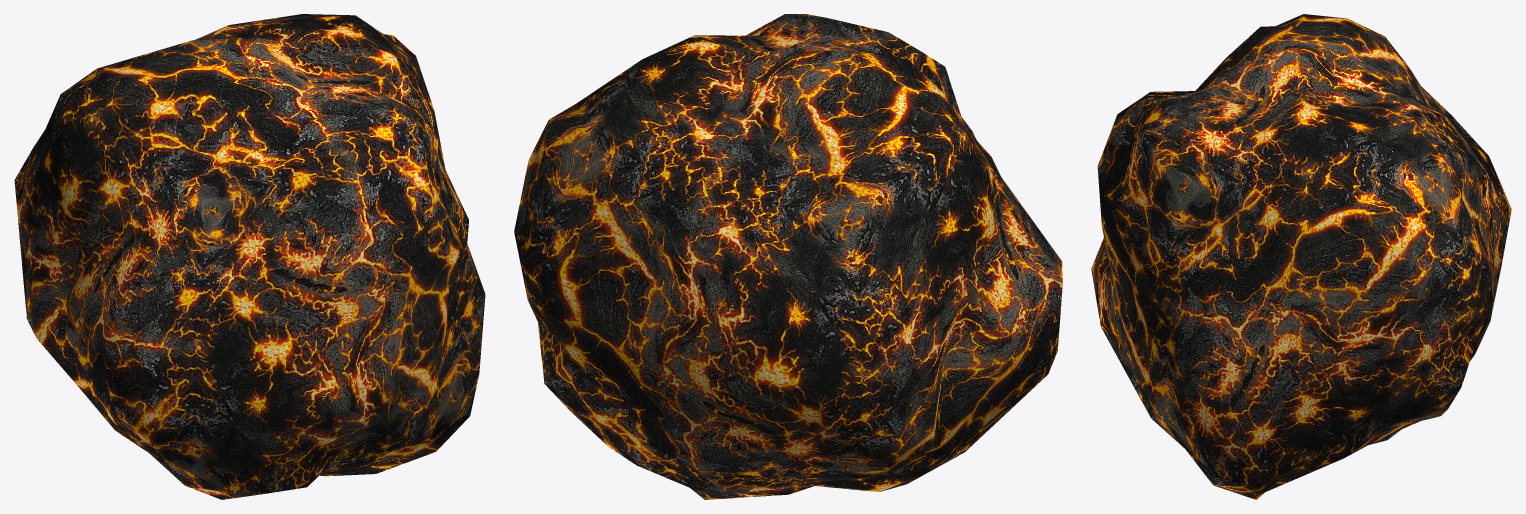
Rendered from asteroid_moltenrock_large_s02_l1.fbx.
3 views of the same model, side by side, from view 1: azimuth 30°, elevation 25°; view 2: azimuth 150°, elevation 25°; view 3: azimuth 270°, elevation 25° (orthographic). The views are drawn at different scales.
Parts seen in each view (by area): view 1: mesh_node; view 2: mesh_node; view 3: mesh_node.
Boxes of the visible parts, x1,y1,x2,y2 form: mesh_node: [14, 14, 485, 499]; mesh_node: [514, 14, 1062, 499]; mesh_node: [1091, 14, 1511, 499].
Size of the model in its own units: 108 by 112 by 107.
